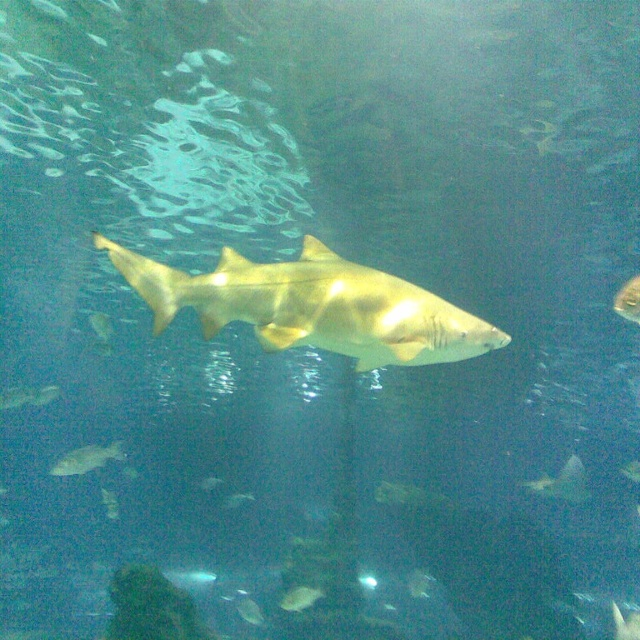Fish: (1, 230, 640, 640)
